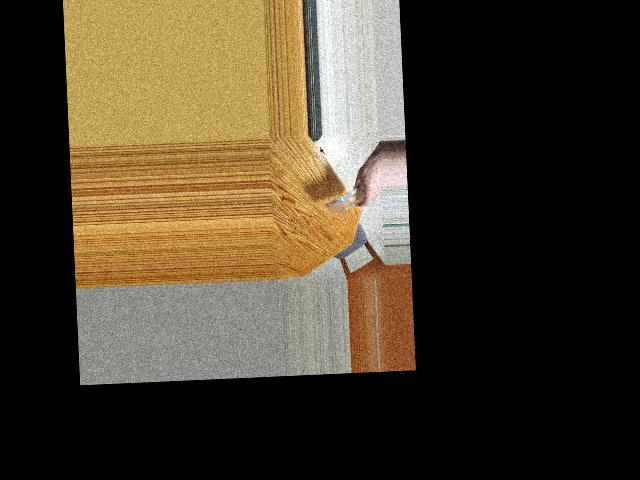cheese: (323, 187, 370, 214)
